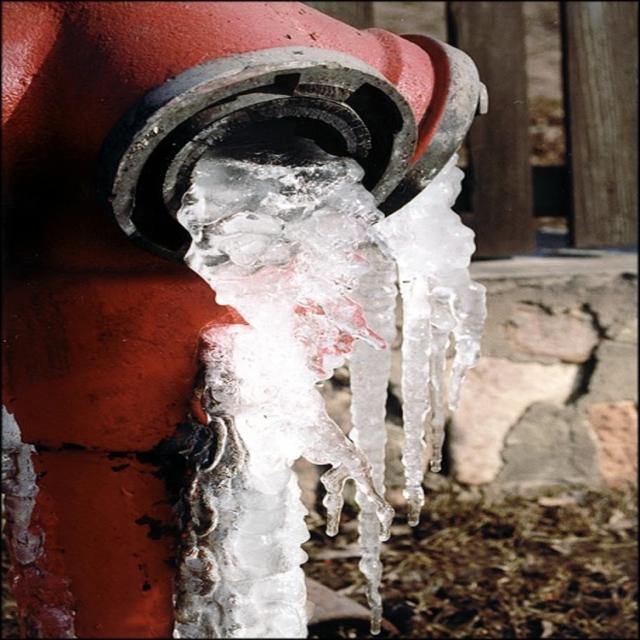fire_hydrant: (6, 0, 496, 639)
